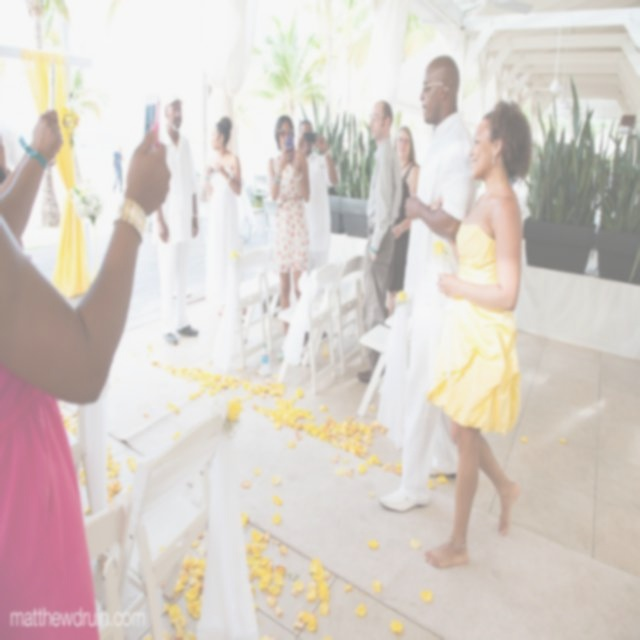pessoa: (0, 101, 173, 639), (420, 94, 537, 571), (374, 51, 484, 516), (356, 100, 405, 386), (148, 90, 202, 348), (199, 112, 245, 380), (292, 117, 340, 346), (268, 112, 311, 314), (384, 125, 421, 318)
